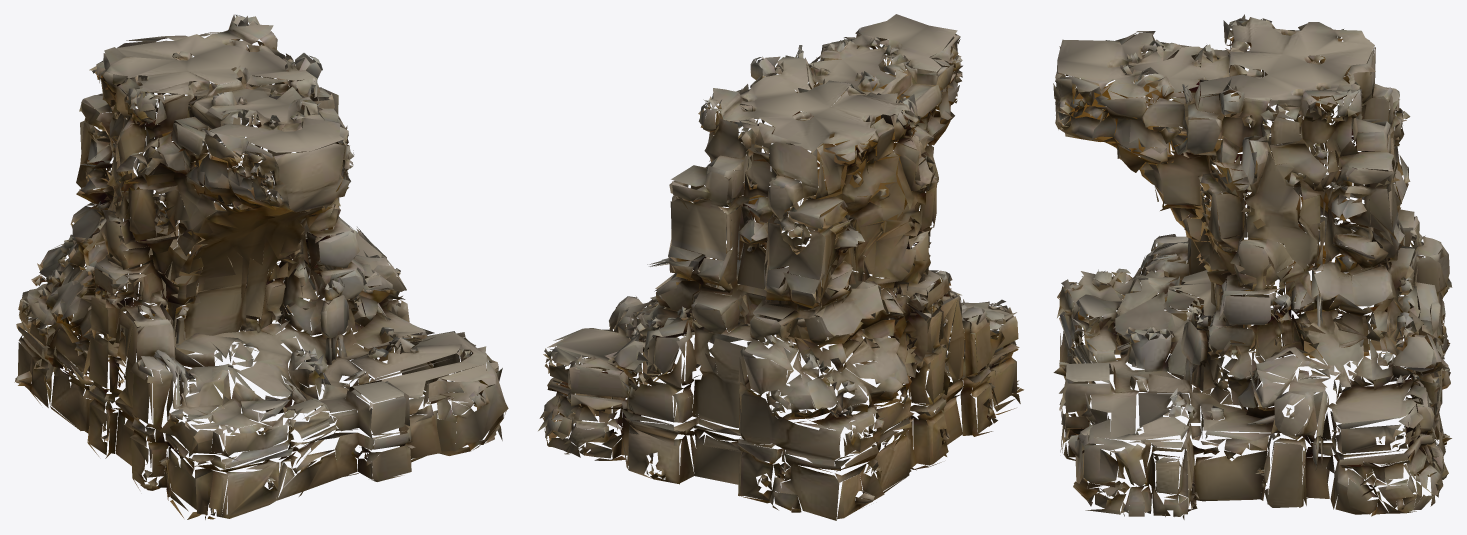
File: cav_limestone_cliff_b_overhang_LOD1.glb
3 renders of one model, left to right at view 1: azimuth 30°, elevation 25°; view 2: azimuth 150°, elevation 25°; view 3: azimuth 270°, elevation 25°, orthographic. The views are drawn at different scales.
Parts seen in each view (by area): view 1: tripo_node_d8d8335b-70f9-4c28-9559-faeaa14c2b27; view 2: tripo_node_d8d8335b-70f9-4c28-9559-faeaa14c2b27; view 3: tripo_node_d8d8335b-70f9-4c28-9559-faeaa14c2b27.
Part boxes in pixels (left/top/right/bottom): tripo_node_d8d8335b-70f9-4c28-9559-faeaa14c2b27: left=14, top=14, right=508, bottom=519; tripo_node_d8d8335b-70f9-4c28-9559-faeaa14c2b27: left=538, top=14, right=1023, bottom=520; tripo_node_d8d8335b-70f9-4c28-9559-faeaa14c2b27: left=1053, top=14, right=1452, bottom=519.
Size of the model in its own units: 1 by 1.01 by 0.9963.
Materials: 1 (1 with a texture image).
